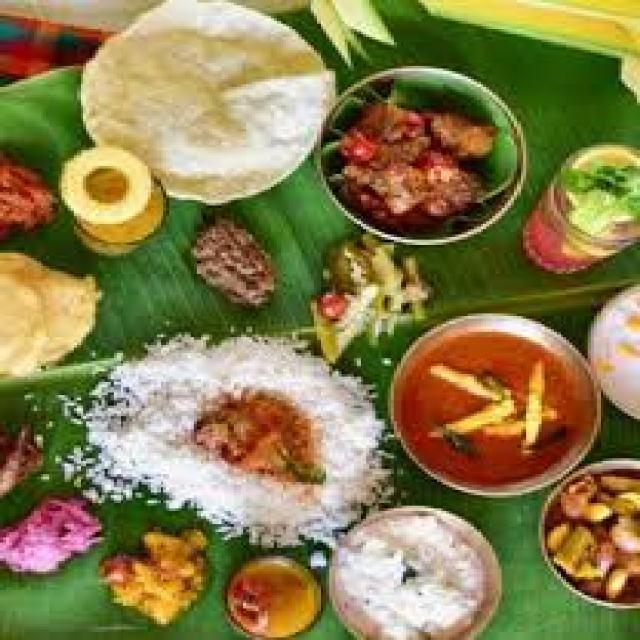curd: (318, 507, 514, 640)
papad: (1, 246, 113, 385)
pickle: (324, 88, 516, 237), (1, 144, 61, 237)
raita: (578, 269, 639, 437)
rice: (90, 328, 351, 486)
sambar-rasam: (225, 549, 319, 640)
sweet: (388, 324, 601, 487), (51, 134, 176, 253)
